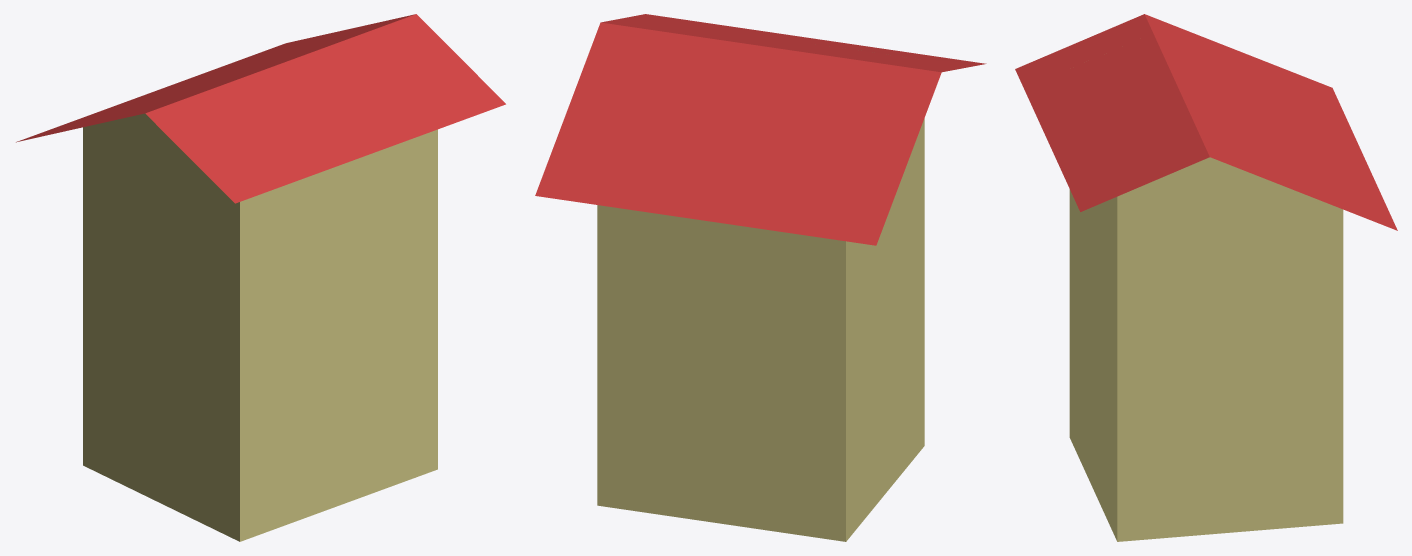
3 renders of one model, left to right at view 1: azimuth 30°, elevation 25°; view 2: azimuth 150°, elevation 25°; view 3: azimuth 270°, elevation 25°, orthographic. The views are drawn at different scales.
Bounding box in the file's own units: 6.43 × 6.15 × 7.04.
